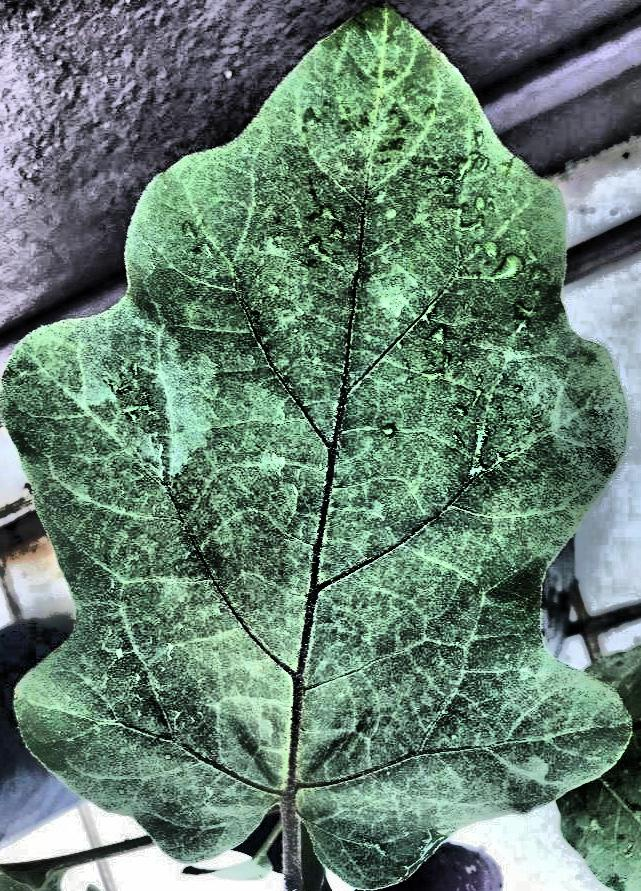HEALTHY: (1, 0, 641, 891)
